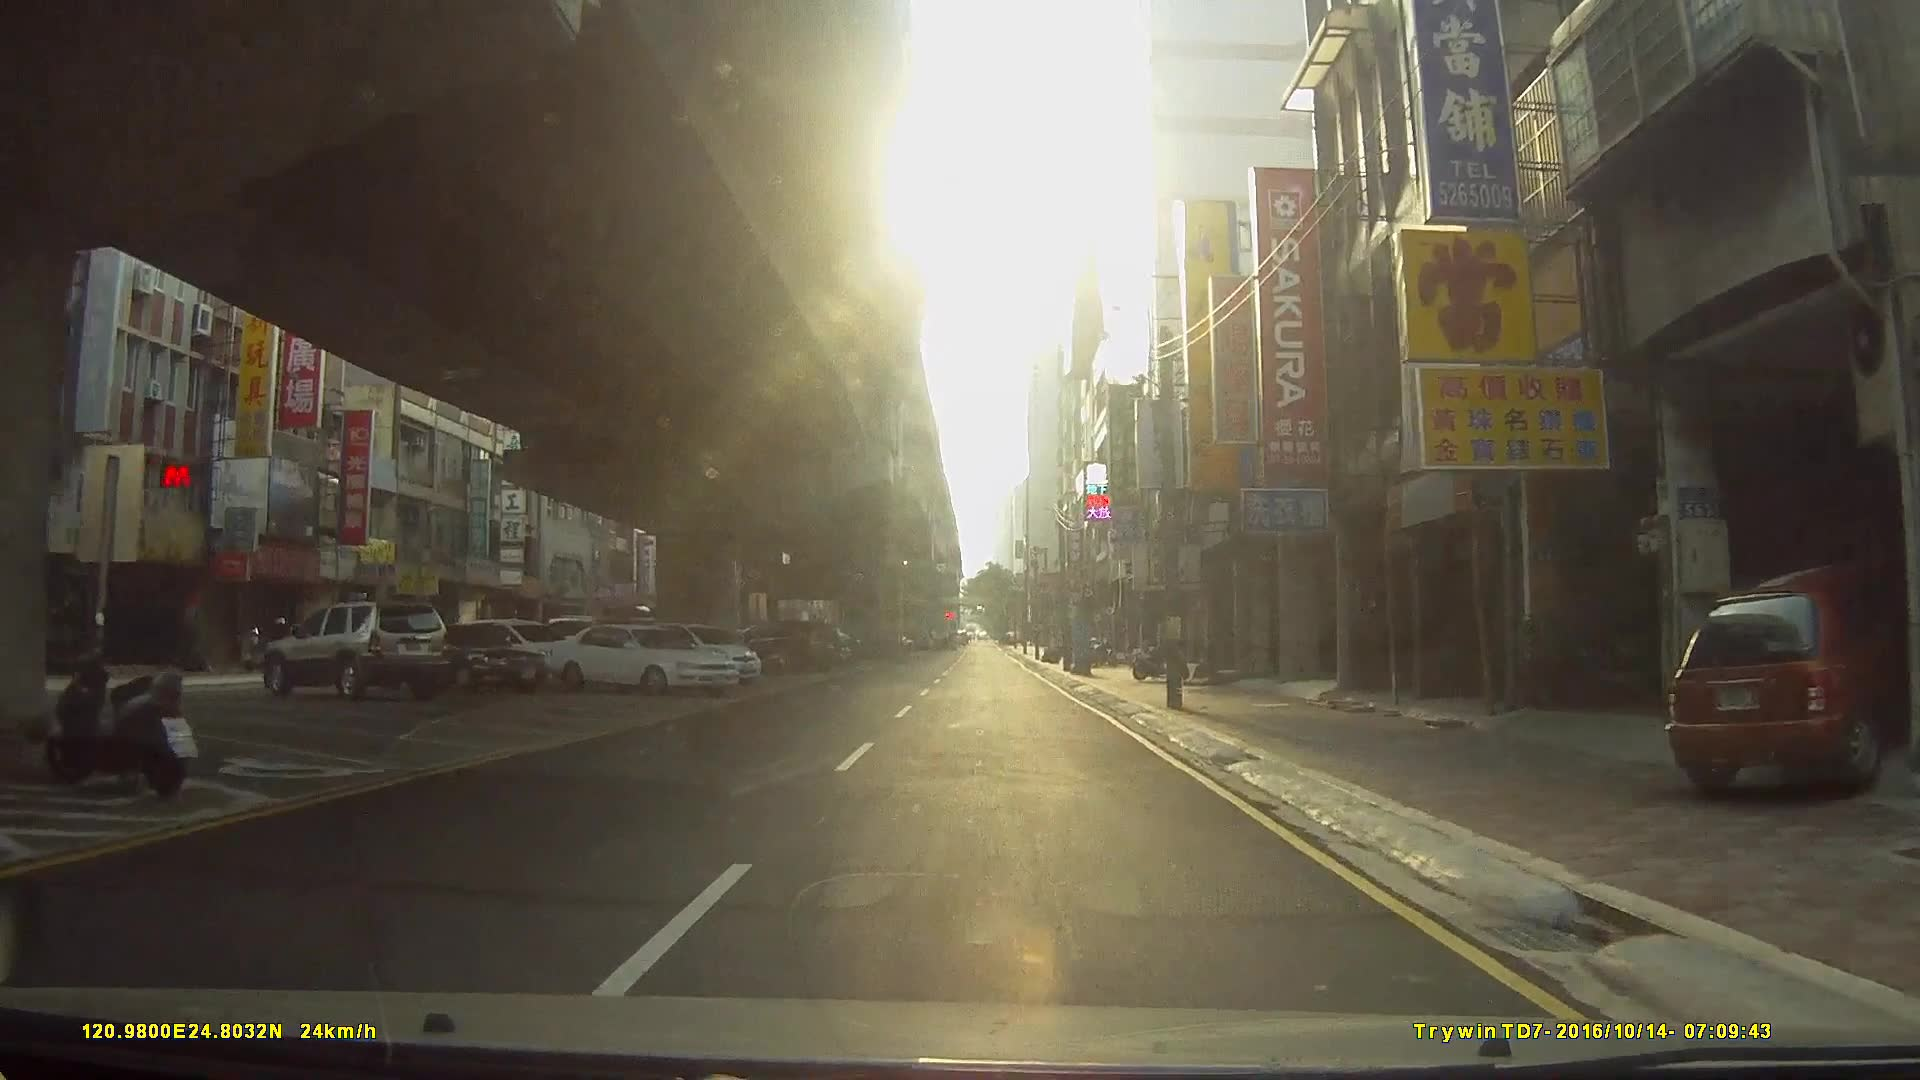vehicle: (1665, 556, 1900, 796), (264, 601, 451, 702), (353, 620, 549, 694), (543, 622, 744, 692)
